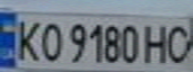0: (118, 20, 142, 64)
1: (84, 20, 106, 63)
8: (103, 20, 124, 64)
9: (63, 19, 87, 63)
C: (160, 20, 193, 64)
H: (139, 19, 172, 64)
K: (9, 16, 45, 63)
O: (36, 18, 63, 63)
